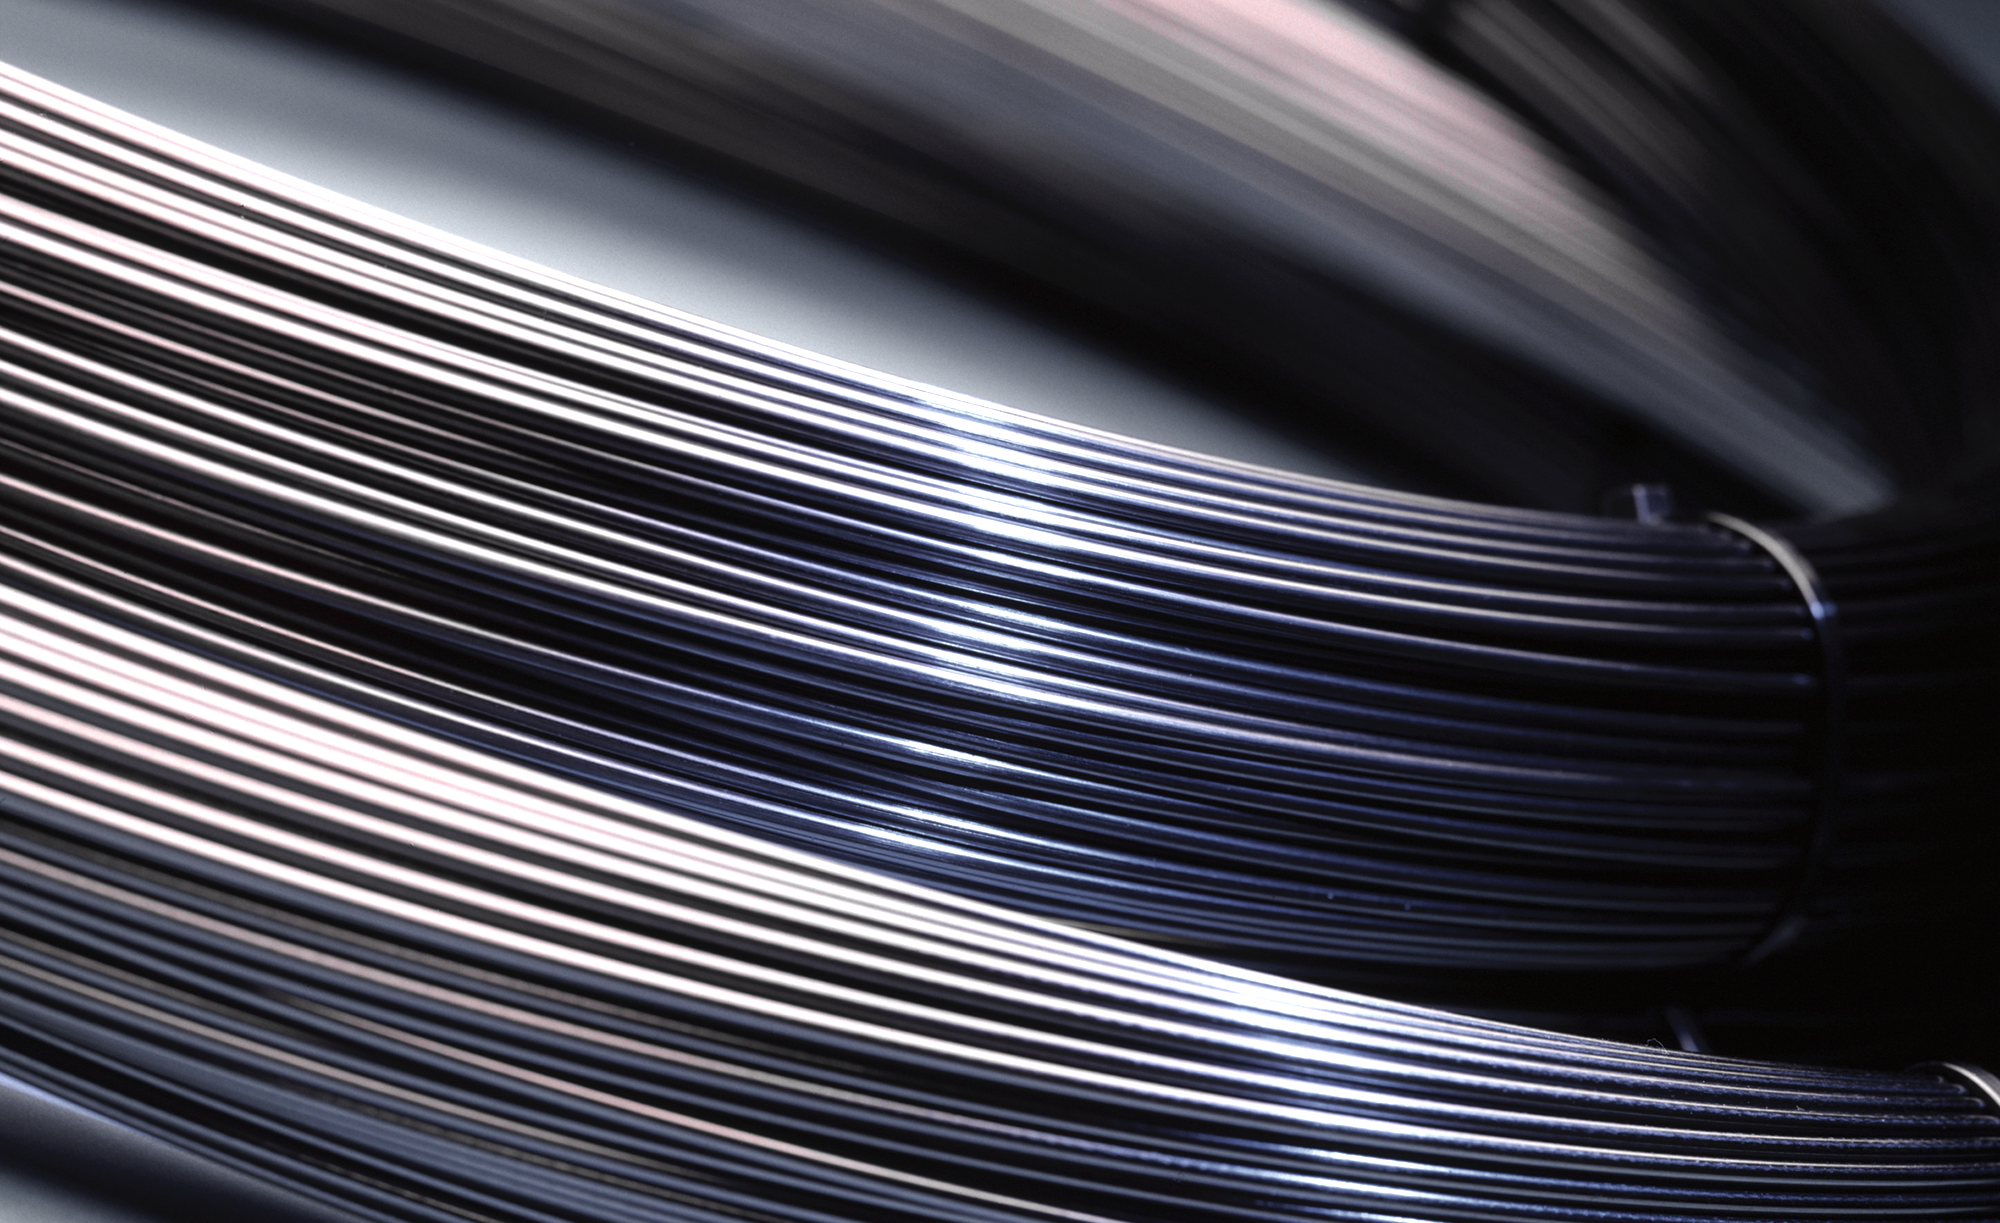Nonrec_Tangler: (1, 26, 1850, 1147)
